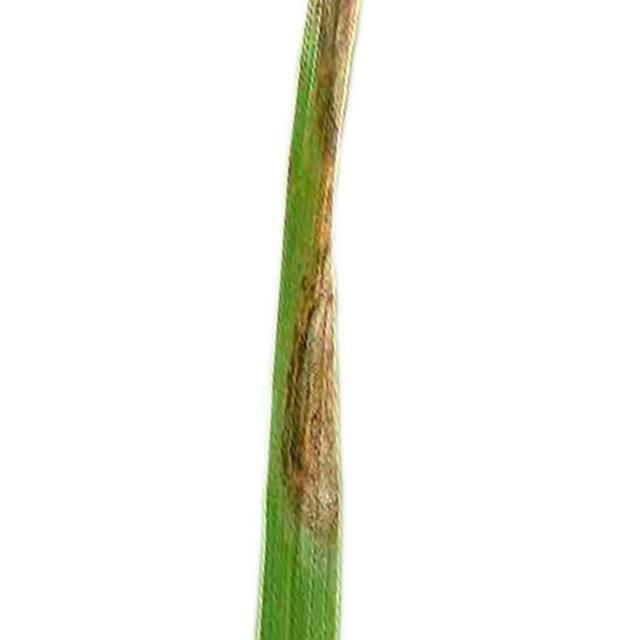Leaf scald: (172, 0, 524, 640)
